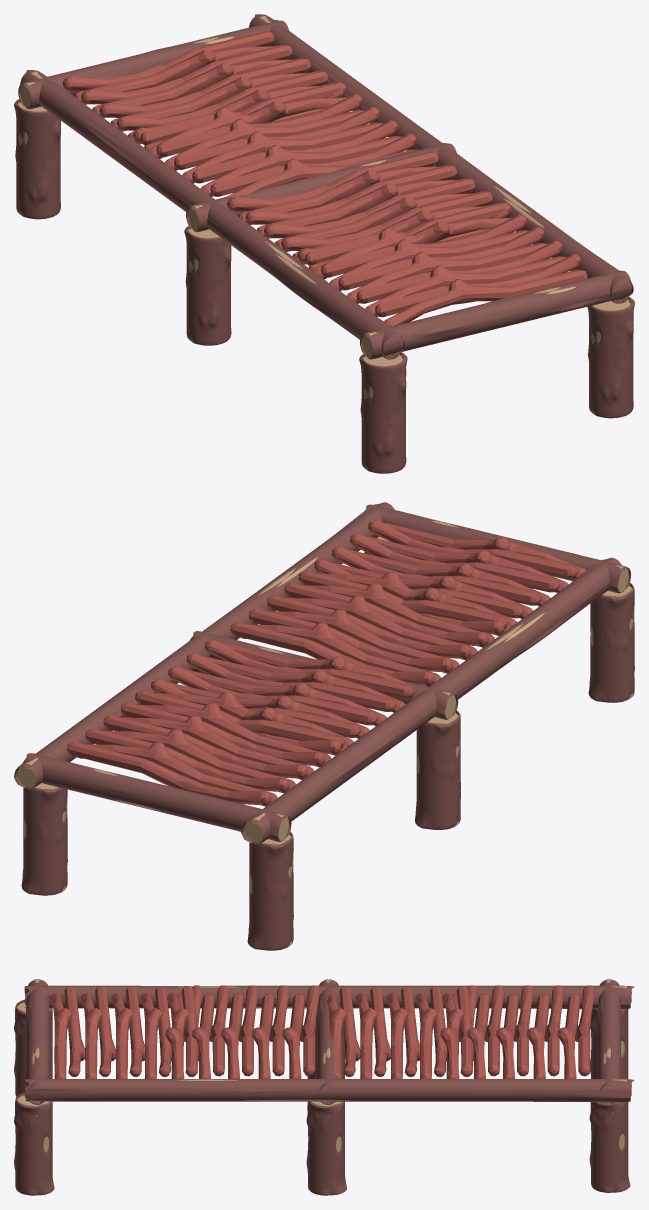
Rendered from bed.fbx.
The picture shows the model from 3 angles, top to bottom: view 1: azimuth 30°, elevation 25°; view 2: azimuth 150°, elevation 25°; view 3: azimuth 270°, elevation 25°; orthographic projection. The views are drawn at different scales.
Parts seen in each view (by area): view 1: bed; view 2: bed; view 3: bed.
Part boxes in pixels (left/top/right/bottom): bed: left=14, top=14, right=634, bottom=473; bed: left=14, top=502, right=634, bottom=950; bed: left=14, top=979, right=634, bottom=1195.
Size of the model in its own units: 178 by 94.75 by 427.
